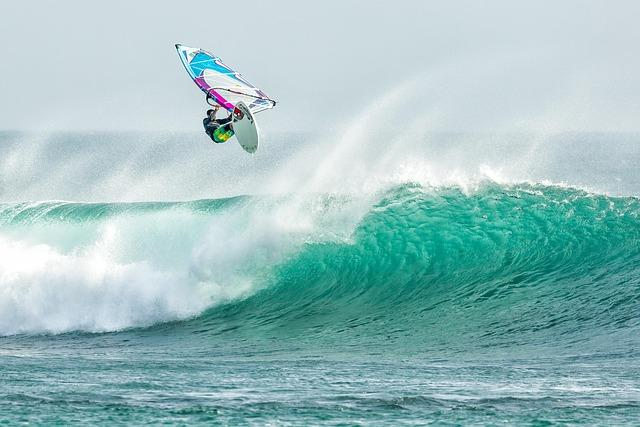Non_Gorille: (142, 23, 396, 285)
